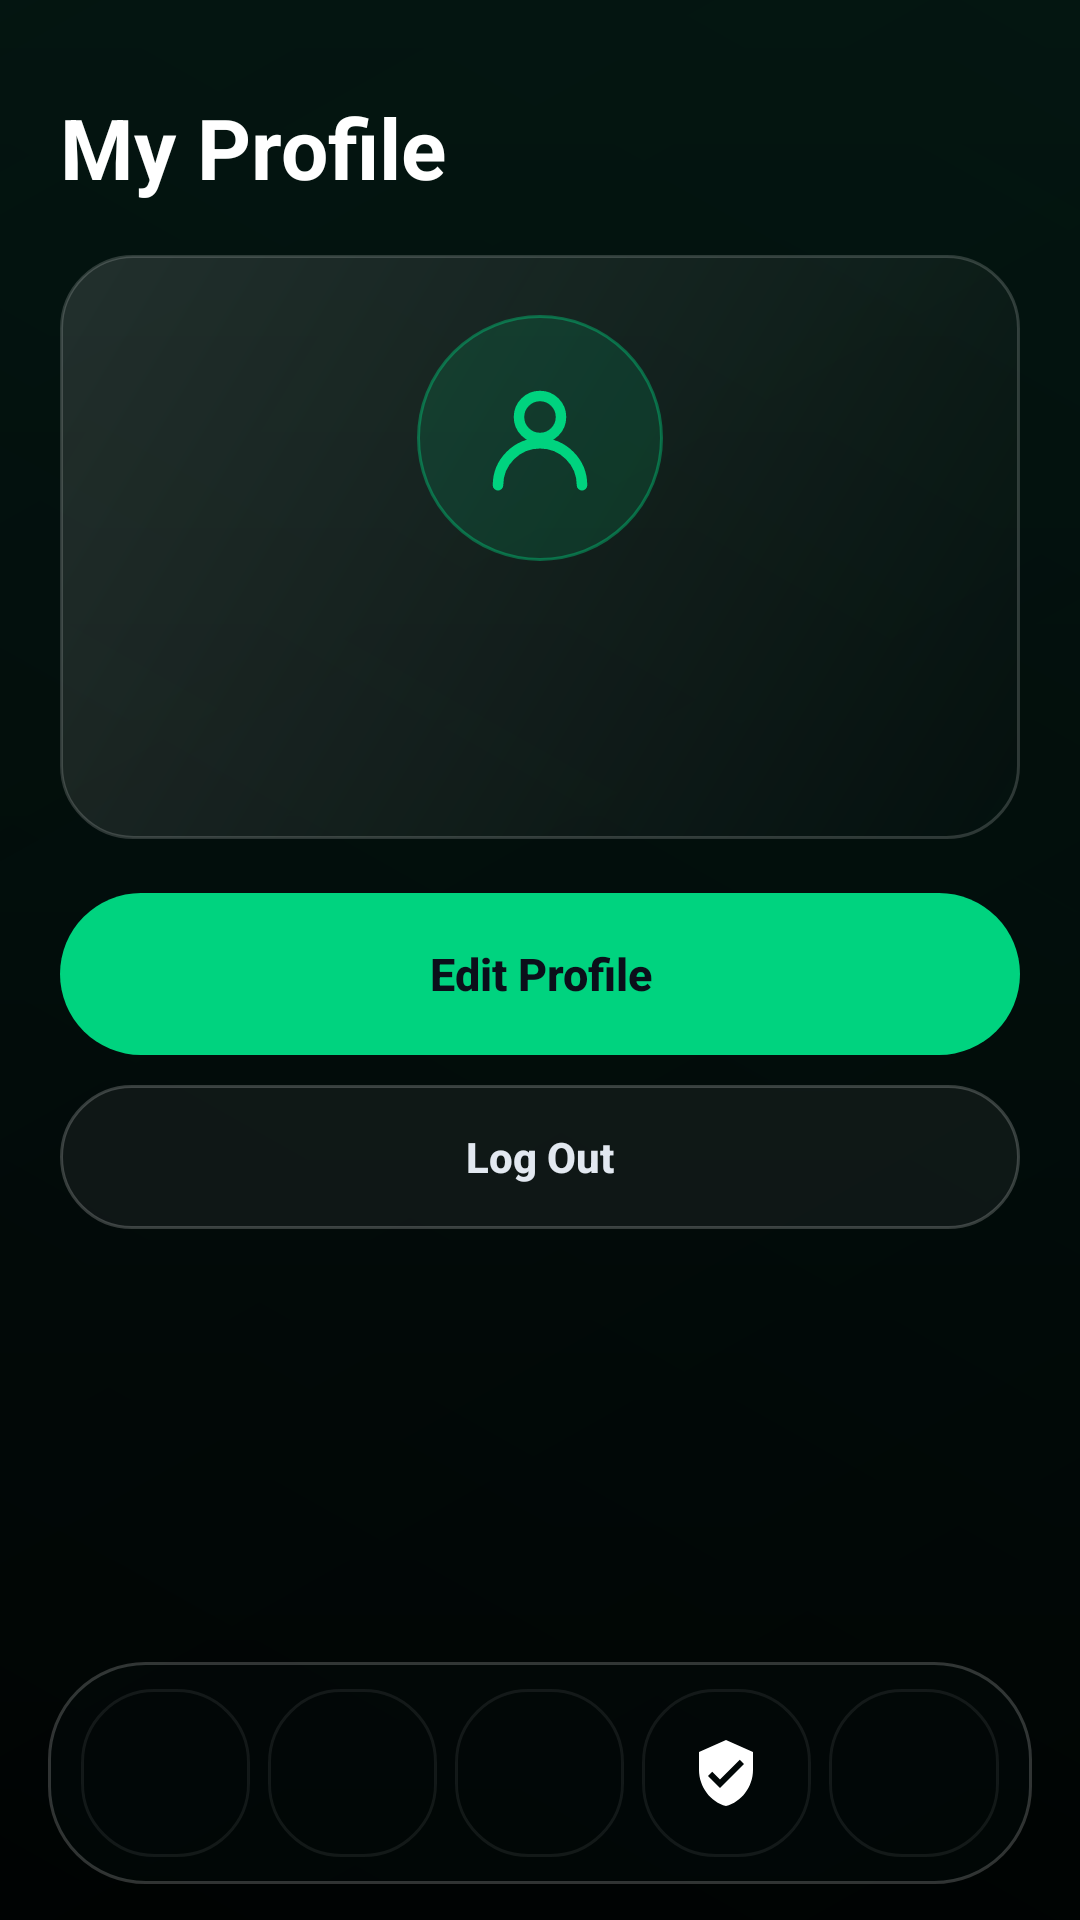

Icons on this 1080 x 1920 Android screen, each with the point to tap as (x=x, y=y):
Profile: (x=540, y=440)
